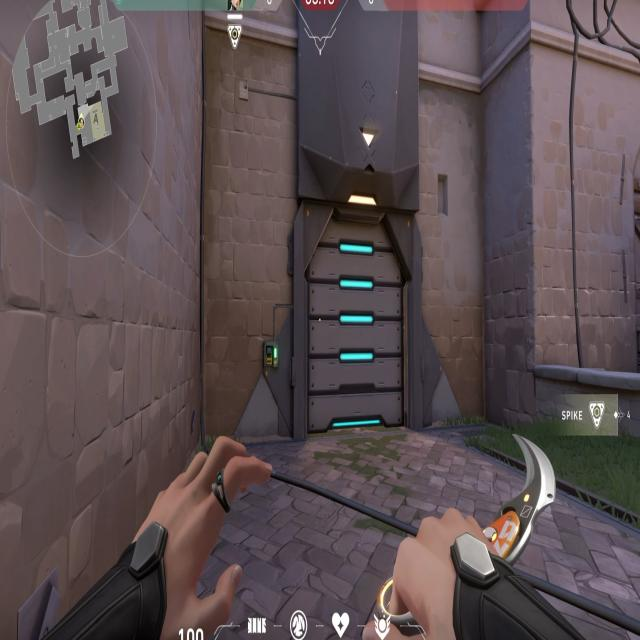A_Door: (302, 193, 411, 436)
